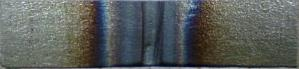soldas: (79, 1, 208, 67)
